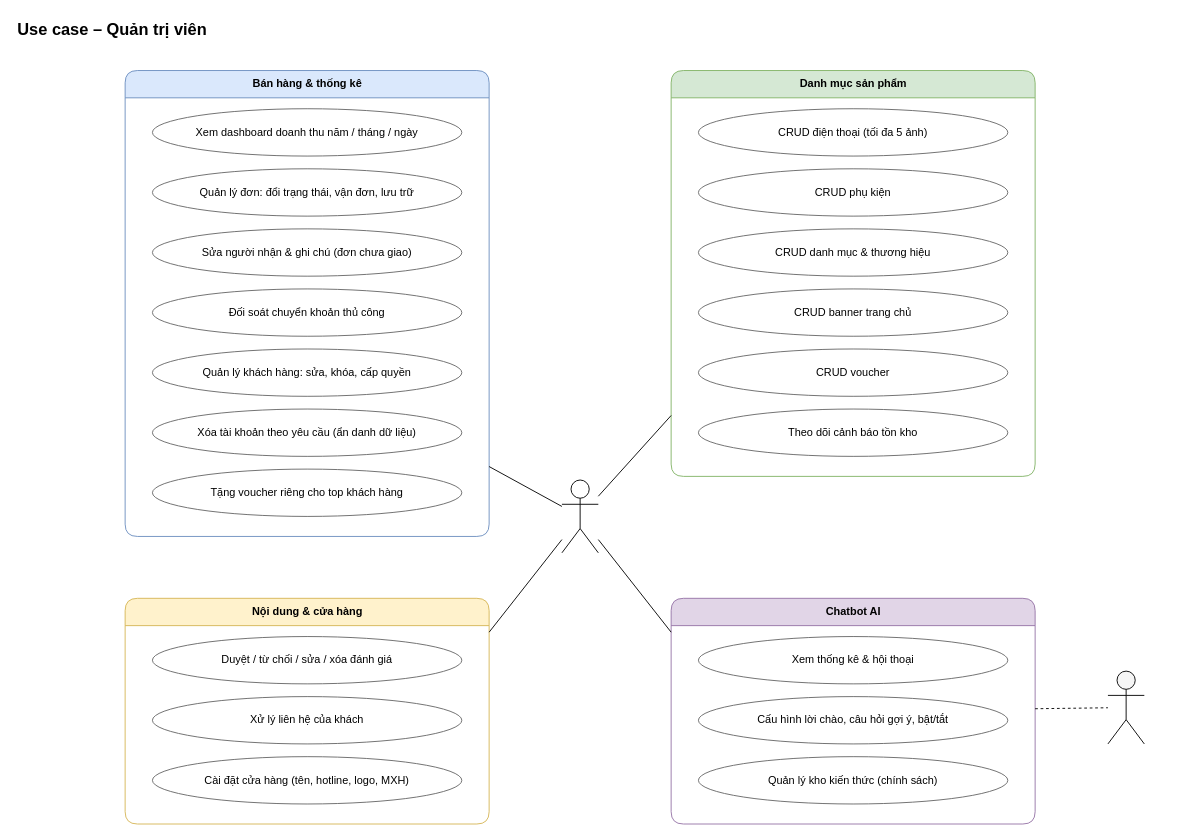
Image size: 1190x840. Some labels were removed from this diagram. Here are the shapes that lost their labels. From the top down, the centre of each, then its label:
At point (579, 516): "Quản trị viên".
At point (1125, 707): "Google Gemini API".
